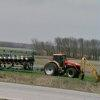Tractor: (41, 48, 91, 74)
